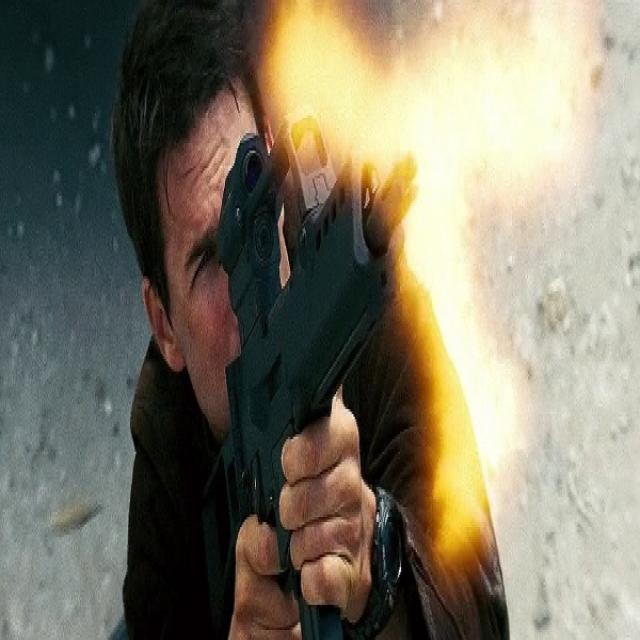rifle: (198, 109, 421, 640)
